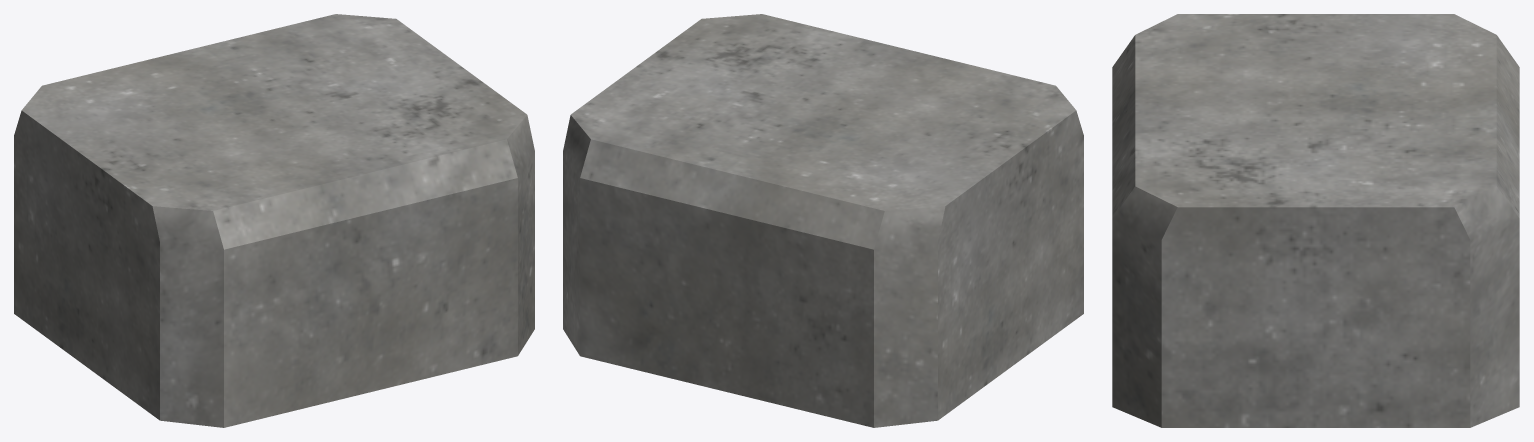
The model's file is Foundation_Post.fbx.
3 renders of one model, left to right at view 1: azimuth 30°, elevation 25°; view 2: azimuth 150°, elevation 25°; view 3: azimuth 270°, elevation 25°, orthographic. The views are drawn at different scales.
Visible parts, largest first — view 1: Foundation_Post; view 2: Foundation_Post; view 3: Foundation_Post.
Part boxes in pixels (x1,y1,x2,y2): Foundation_Post: [14, 14, 534, 427]; Foundation_Post: [563, 14, 1083, 427]; Foundation_Post: [1112, 14, 1519, 427].
Size of the model in its own units: 0.5885 by 0.3135 by 0.5245.
